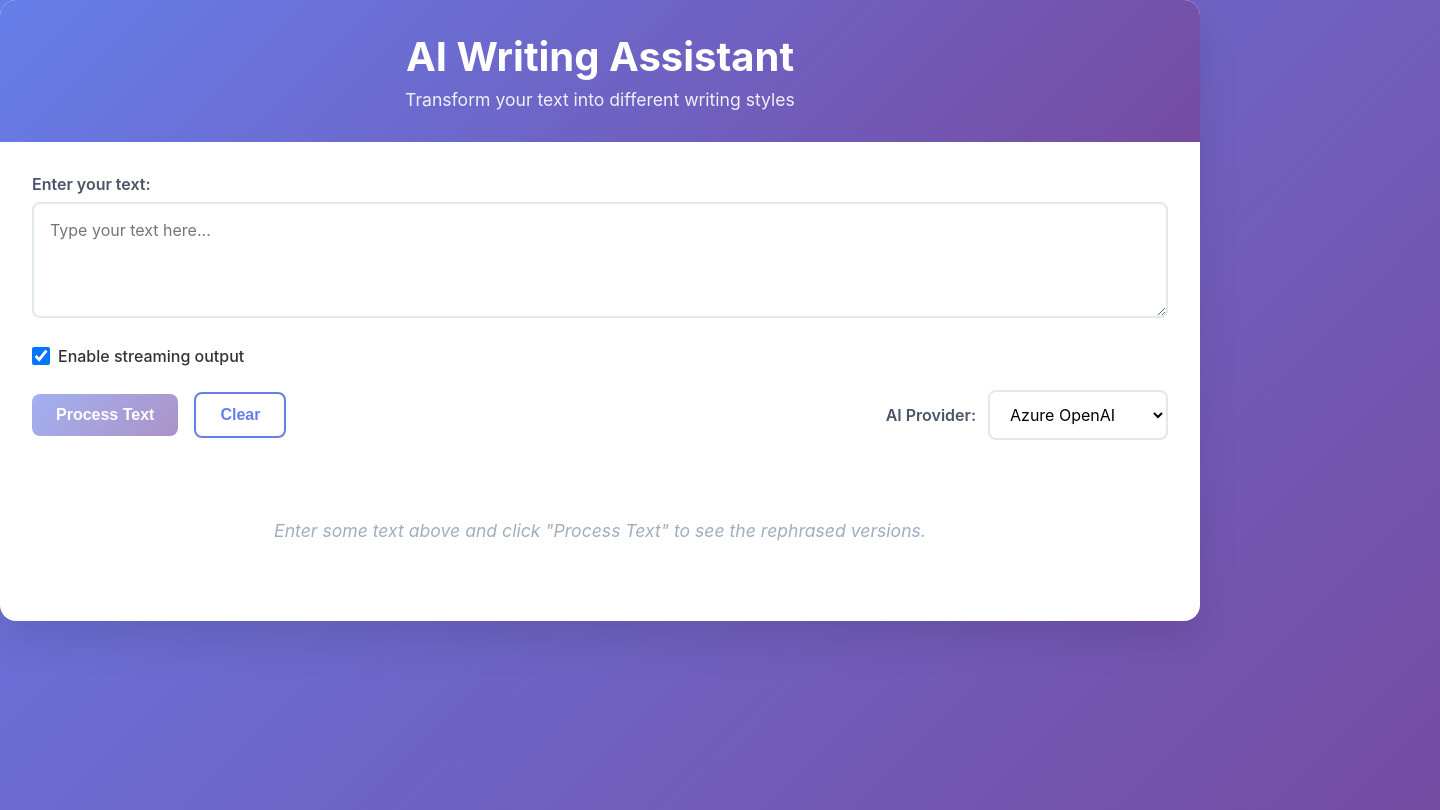
Test: WritingAssistant › handles API errors gracefully
This screenshot has width=1440, height=810.
Disable streaming for this test
Click the checkbox labelled "Enable streaming output" at (41, 356), box [32, 347, 50, 365]
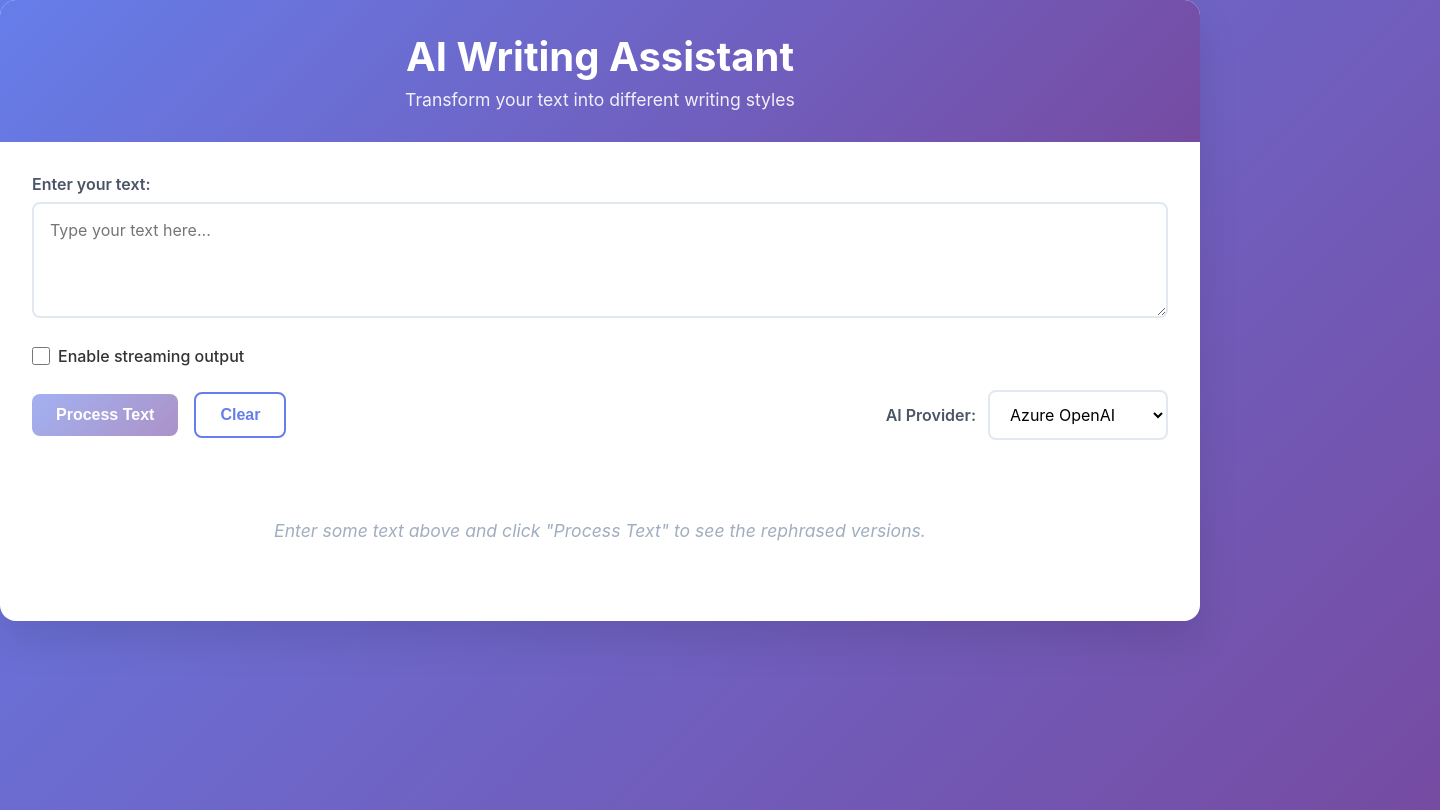
Type "Hello world" into the text box labelled "Enter your text:" at (600, 260), box [32, 202, 1168, 318]
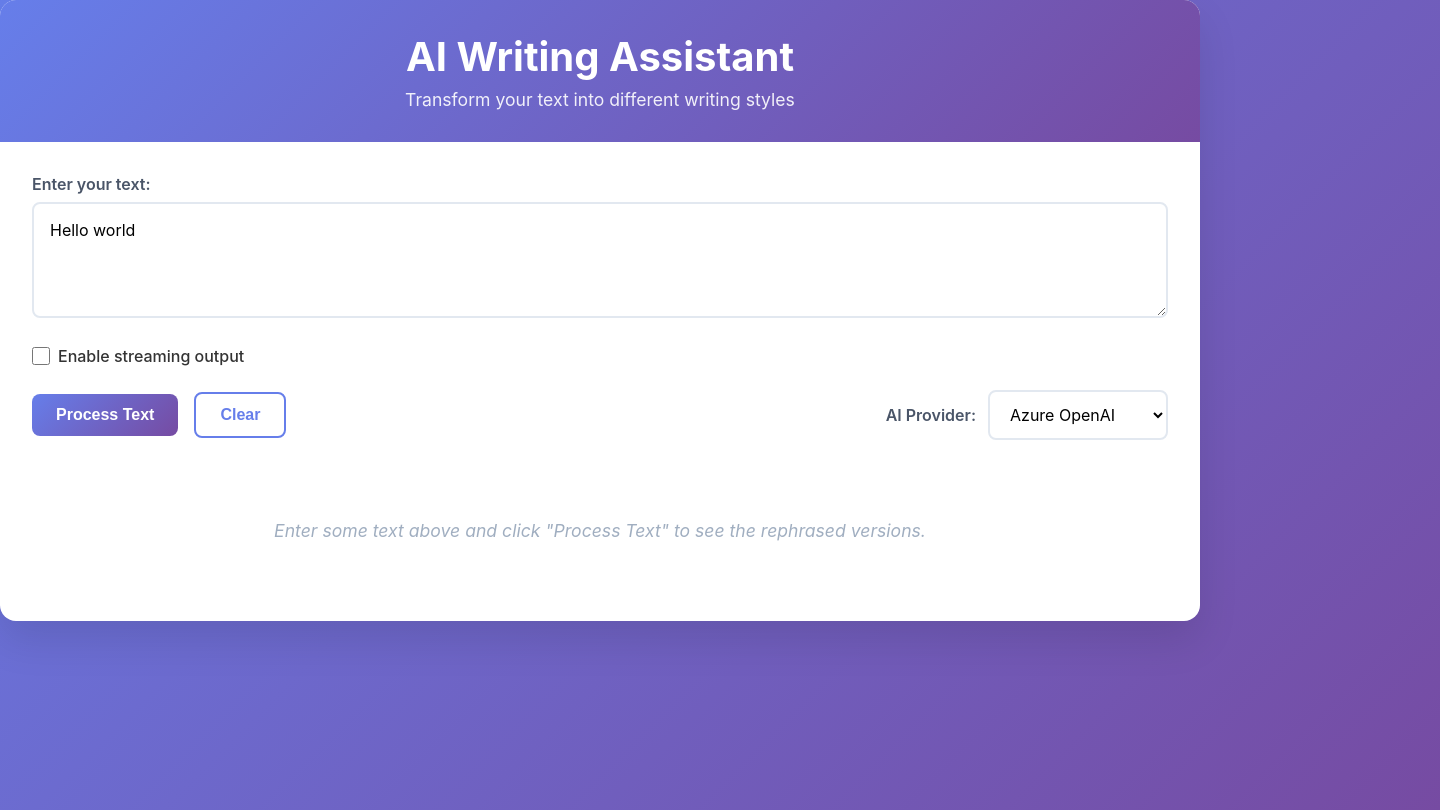
Click the button "Process Text" at (105, 415), box [32, 394, 178, 436]
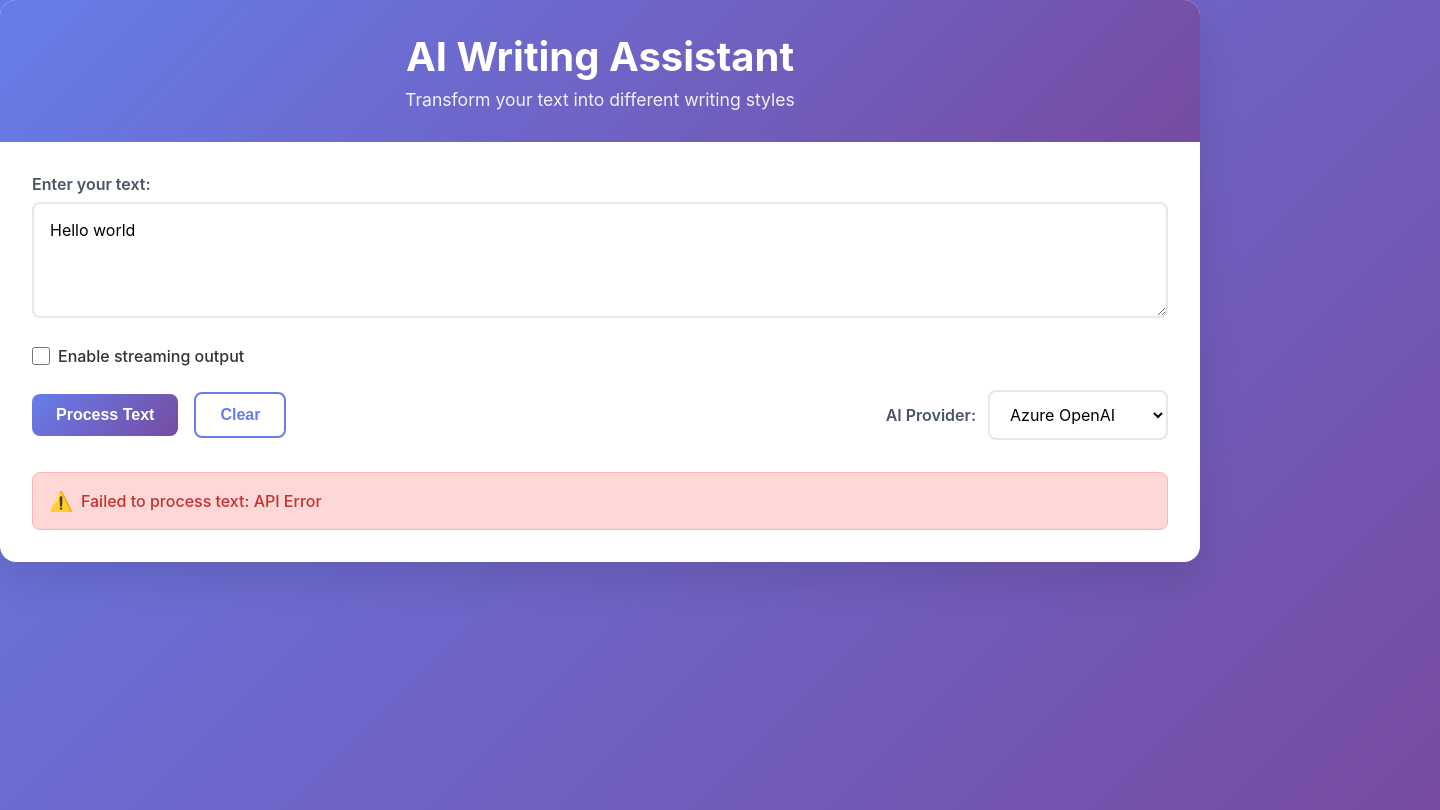
expect the text "⚠️ Failed to process text: API Error" is shown: met, box [32, 472, 1168, 530]
